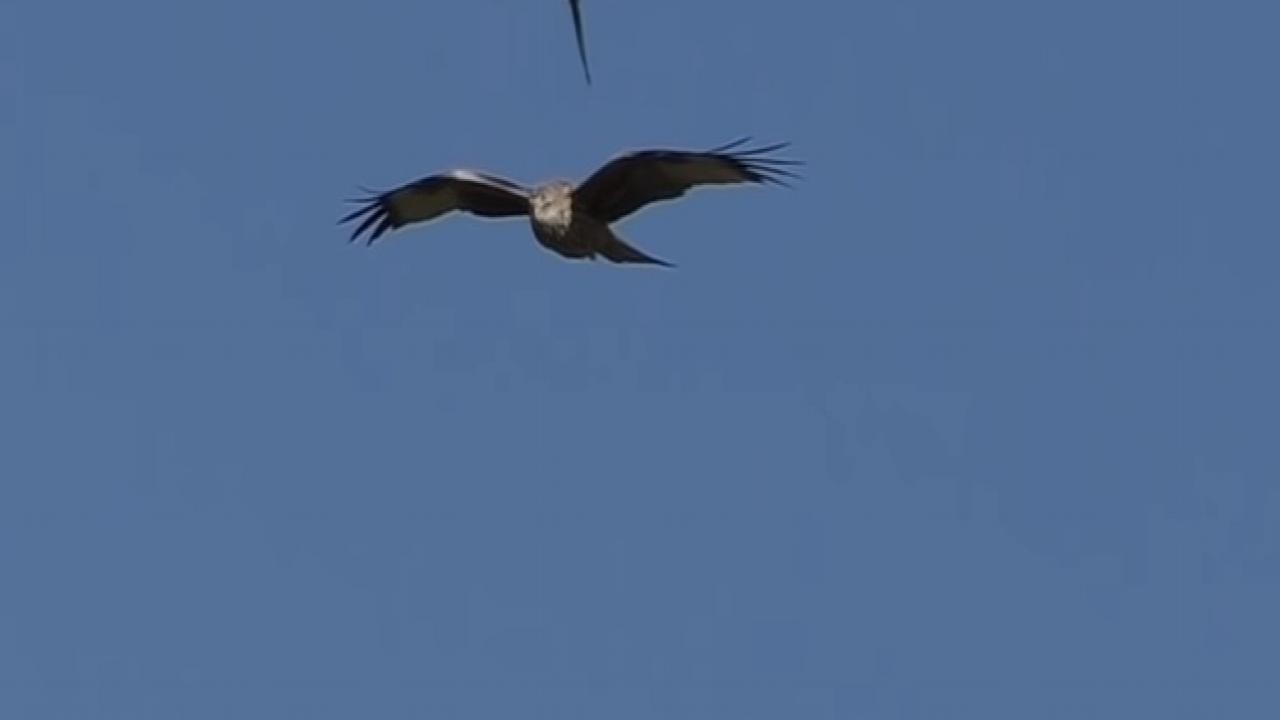Bird: (330, 130, 812, 282)
